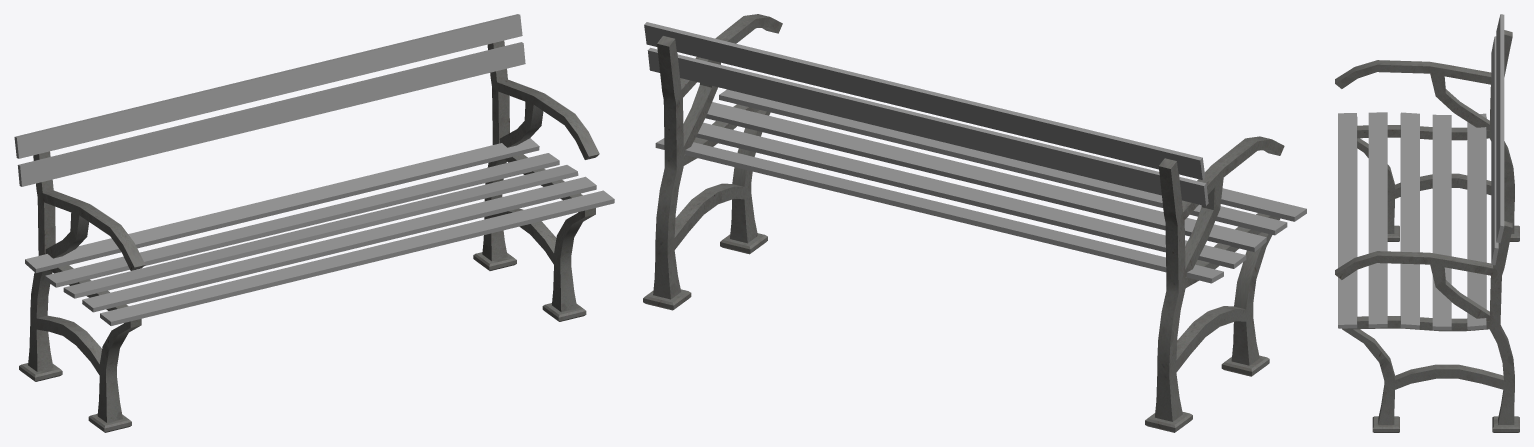
The model's file is bench.fbx.
3 renders of one model, left to right at view 1: azimuth 30°, elevation 25°; view 2: azimuth 150°, elevation 25°; view 3: azimuth 270°, elevation 25°, orthographic. The views are drawn at different scales.
Parts seen in each view (by area): view 1: Mesh; view 2: Mesh; view 3: Mesh.
Boxes of the visible parts, x1,y1,x2,y2 form: Mesh: (14, 14, 614, 432); Mesh: (643, 14, 1306, 432); Mesh: (1335, 14, 1519, 432).
Size of the model in its own units: 184 by 85.67 by 67.91.
